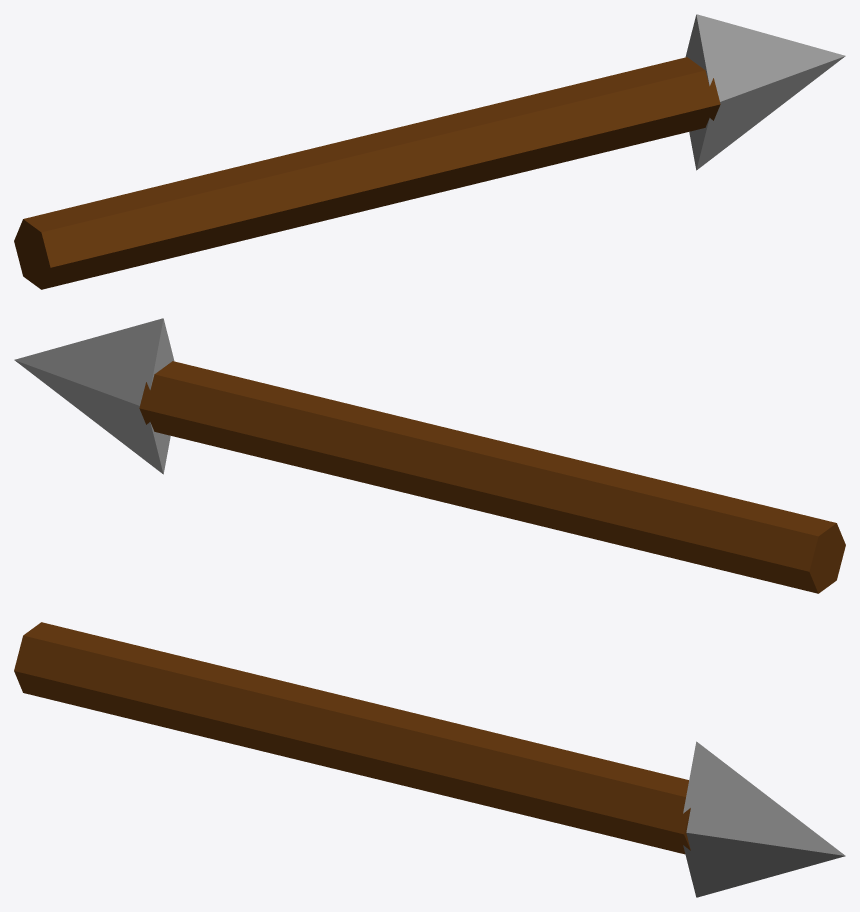
Rendered from ShootArrow.fbx.
3 renders of one model, top to bottom at view 1: azimuth 30°, elevation 25°; view 2: azimuth 150°, elevation 25°; view 3: azimuth 330°, elevation 25°, orthographic.
Visible parts, largest first — view 1: Cylinder; view 2: Cylinder; view 3: Cylinder.
Part boxes in pixels (box(x1,y1,x2,y2)): Cylinder: box(14, 14, 845, 289); Cylinder: box(14, 318, 845, 593); Cylinder: box(14, 622, 845, 897).
Bounding box in the file's own units: 72 × 13.24 × 5.61.
